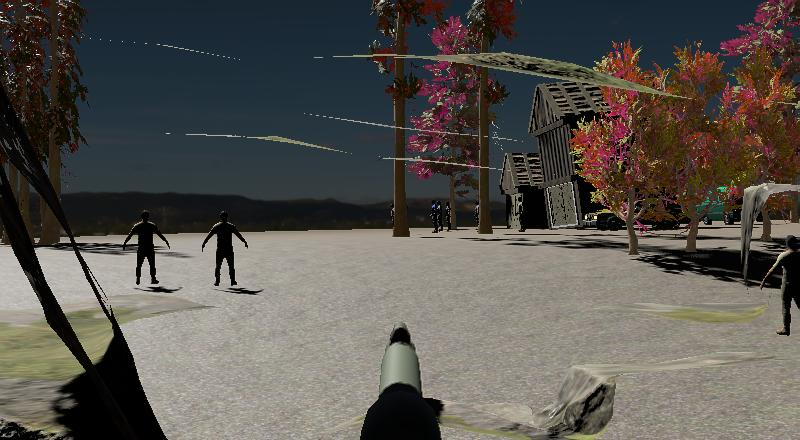Human: (759, 233, 800, 339), (120, 209, 172, 289), (200, 209, 250, 290)
